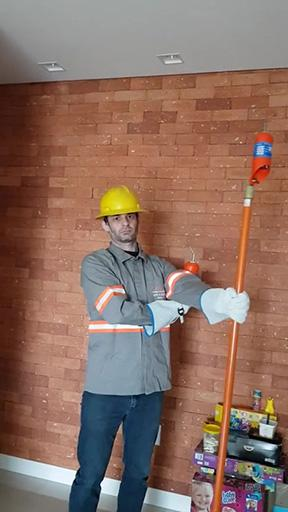Detector_Tensao_Contato: (249, 117, 273, 187)
Vara_Manobra: (212, 185, 256, 512)
